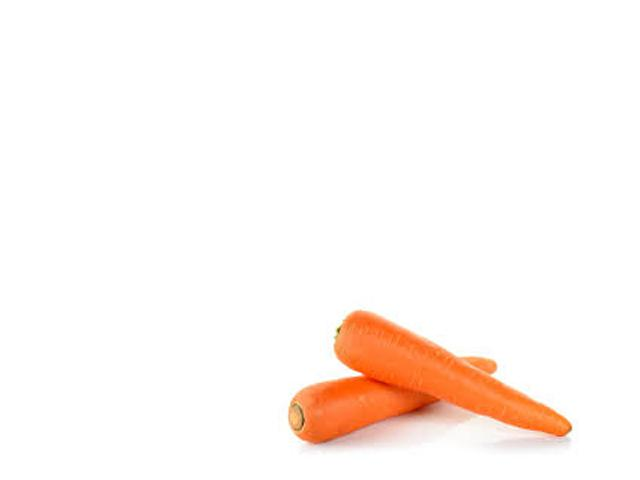carrot: (266, 353, 512, 440)
